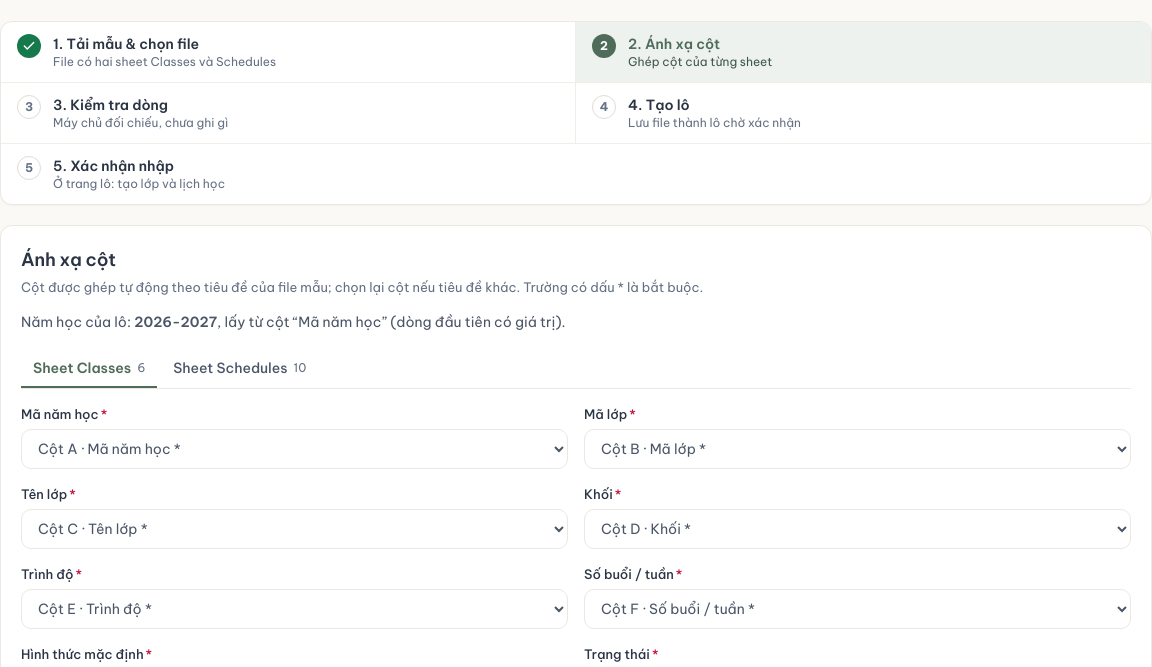
Test: ClassScheduleImportPage: mapping › blocks the check while a required field is unmapped, with the issue in words
Select "Chưa chọn cột" in the dropdown labelled "Tên lớp" at (294, 529), box 21,509 -> 568,549
(page scrolled)
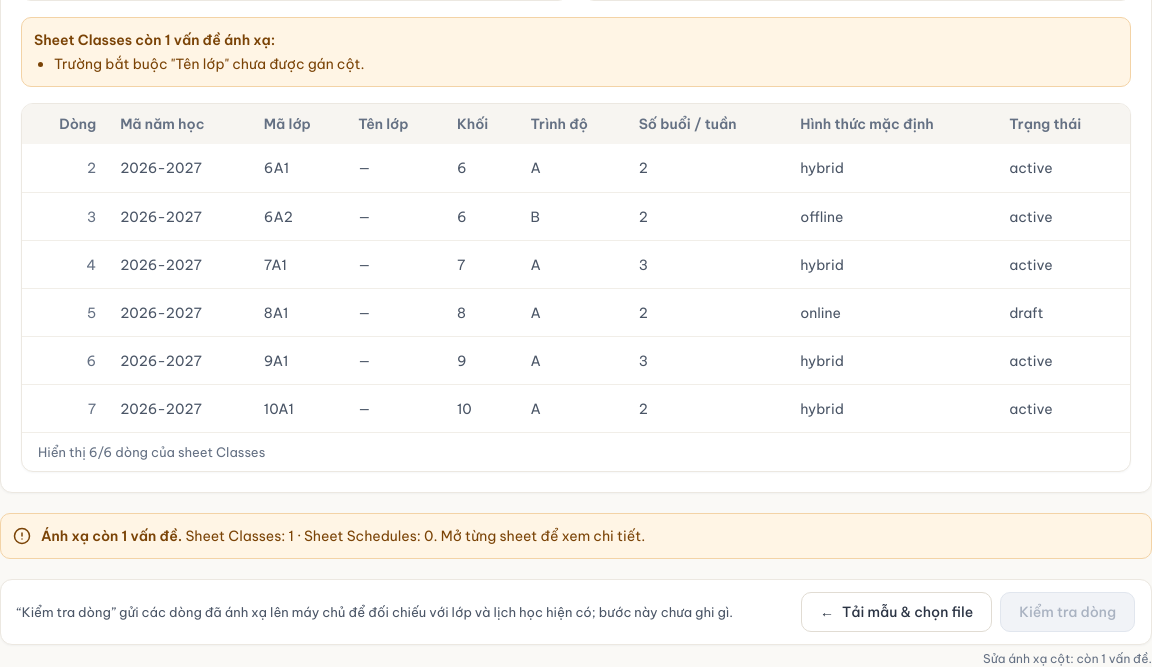
Result: the list item "Trường bắt buộc \"Tên lớp\" chưa được gán cột." is shown at 54,55 -> 365,73
Result: the button "Kiểm tra dòng" is disabled at 1000,592 -> 1135,632
